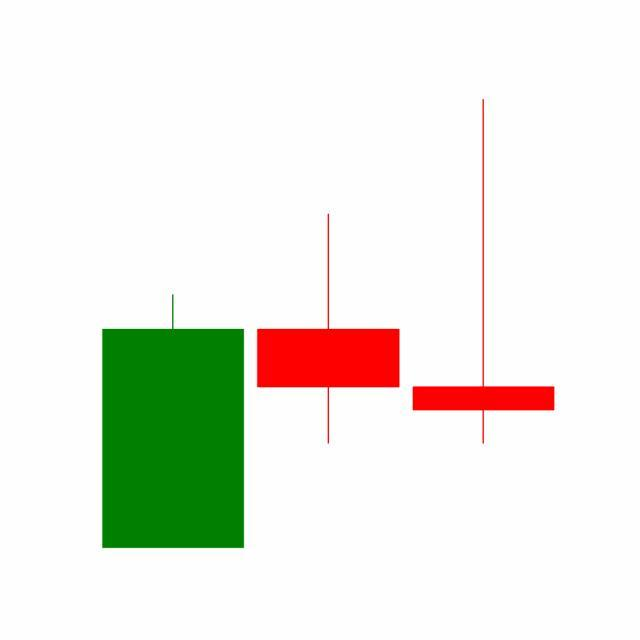Gravestone Doji: (406, 96, 562, 448)
